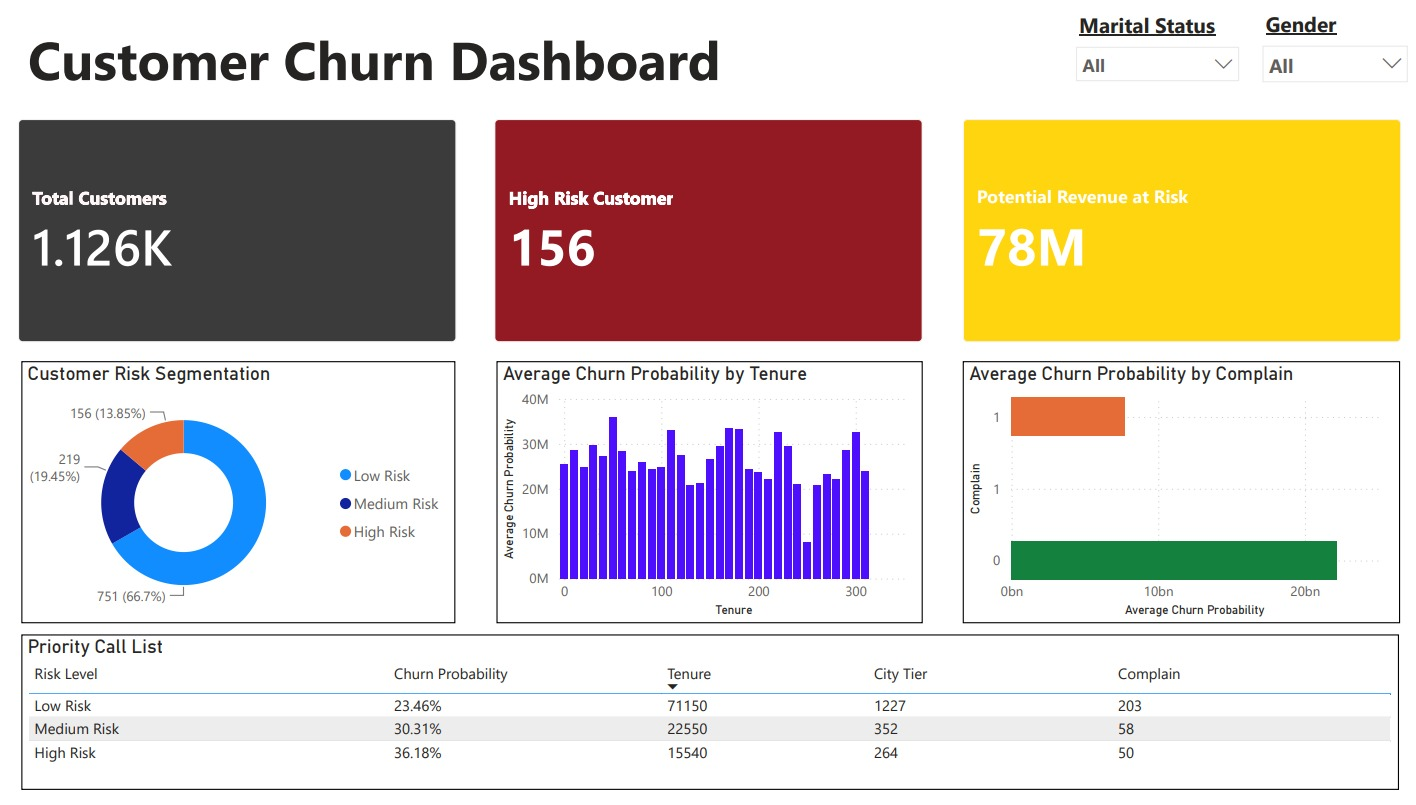

The dashboard page shown, as its layout file describes it:
{"tool":"powerbi","page":{"name":"Page 1","canvas":[1280,720],"ordinal":0},"visuals":[{"type":"cardVisual","fields":{"Data":["CountNonNull(churn_predictions_powerbi.CustomerID)"]},"box":[1.2,86.4,429.2,235.3],"z":0},{"type":"cardVisual","fields":{"Data":["CountNonNull(churn_predictions_powerbi.CustomerID)"]},"box":[430.4,86.4,420.7,235.3],"z":1000},{"type":"donutChart","title":"Customer Risk Segmentation","fields":{"Y":["CountNonNull(churn_predictions_powerbi.CustomerID)"],"Category":["churn_predictions_powerbi.Risk_Level"]},"box":[21.4,321.4,391.4,235.7],"z":2000},{"type":"clusteredColumnChart","title":"Average Churn Probability by Tenure","fields":{"Category":["churn_predictions_powerbi.Tenure"],"Y":["Avg(churn_predictions_powerbi.Churn_Probability)"]},"box":[448.6,321.4,384.3,235.7],"z":3000},{"type":"cardVisual","fields":{"Data":["churn_predictions_powerbi.Potential Revenue at Risk"]},"box":[851.8,86.4,429.7,235.2],"z":4000},{"type":"barChart","title":"Average Churn Probability by Complain","fields":{"Y":["Sum(churn_predictions_powerbi.Churn_Probability)"],"Category":["churn_predictions_powerbi.Complain"]},"box":[868.6,321.4,394.3,235.7],"z":5000},{"type":"tableEx","title":"Priority Call List","fields":{"Values":["churn_predictions_powerbi.Risk_Level","churn_predictions_powerbi.Churn_Prob_Fixed","Sum(churn_predictions_powerbi.Tenure)","Sum(churn_predictions_powerbi.CityTier)","Sum(churn_predictions_powerbi.Complain)"]},"box":[21.4,567.1,1241.4,140],"z":6000},{"type":"slicer","fields":{"Values":["churn_predictions_powerbi.Gender"]},"box":[1128.6,0,151.4,85.7],"z":7000},{"type":"slicer","fields":{"Values":["churn_predictions_powerbi.MaritalStatus"]},"box":[961.4,1.4,167.1,84.3],"z":8000},{"type":"textbox","box":[22,11,940,74.1],"z":9000}]}

Visuals, with their boxes in screenshot pixels (x1, y1, x2, y2), scaled from the page's 1280x720 canvas onto the 1416x805 screenshot:
cardVisual - CountNonNull(churn_predictions_powerbi.CustomerID): (left=1, top=97, right=476, bottom=360)
cardVisual - CountNonNull(churn_predictions_powerbi.CustomerID): (left=476, top=97, right=942, bottom=360)
"Customer Risk Segmentation" donutChart: (left=24, top=359, right=457, bottom=623)
"Average Churn Probability by Tenure" clusteredColumnChart: (left=496, top=359, right=921, bottom=623)
cardVisual - churn_predictions_powerbi.Potential Revenue at Risk: (left=942, top=97, right=1415, bottom=360)
"Average Churn Probability by Complain" barChart: (left=961, top=359, right=1397, bottom=623)
"Priority Call List" tableEx: (left=24, top=634, right=1397, bottom=791)
slicer - churn_predictions_powerbi.Gender: (left=1249, top=0, right=1415, bottom=96)
slicer - churn_predictions_powerbi.MaritalStatus: (left=1064, top=2, right=1248, bottom=96)
textbox: (left=24, top=12, right=1064, bottom=95)
